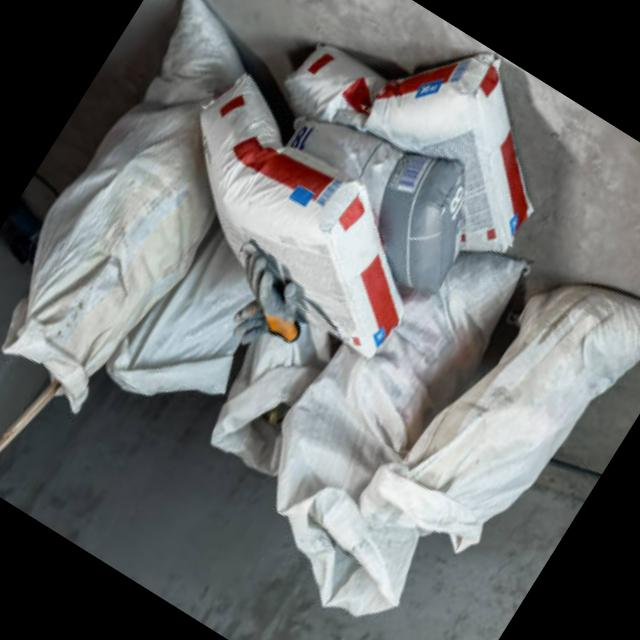KantongSemen: (206, 200, 586, 640), (239, 0, 589, 301), (132, 61, 466, 367), (376, 236, 640, 600)
